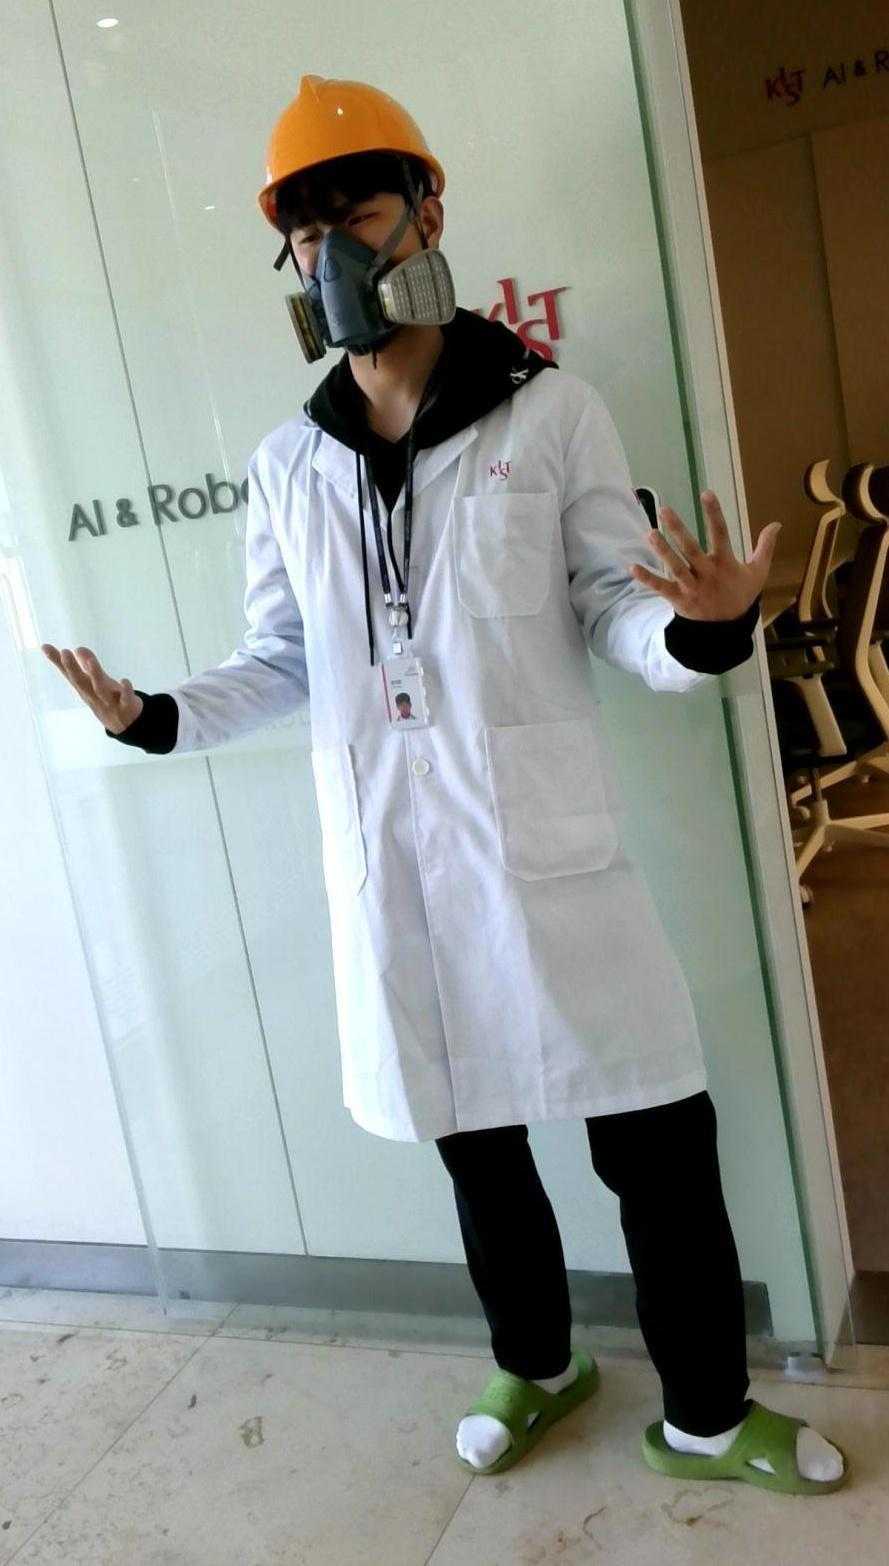lab_coat: (247, 421, 636, 1141)
